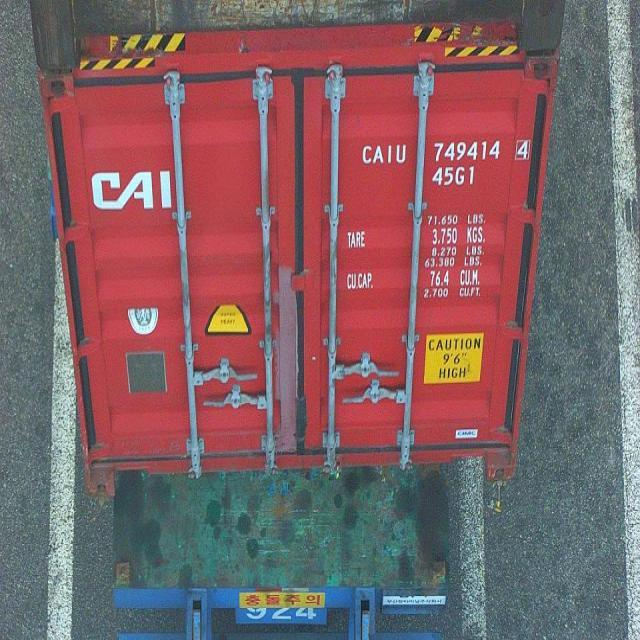ISO: (434, 164, 478, 186)
container_number: (364, 140, 526, 164)
